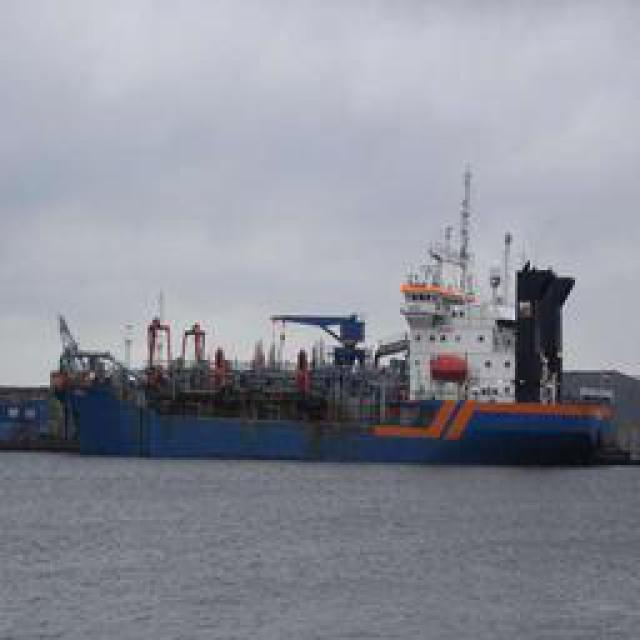Ship: (39, 206, 624, 471)
